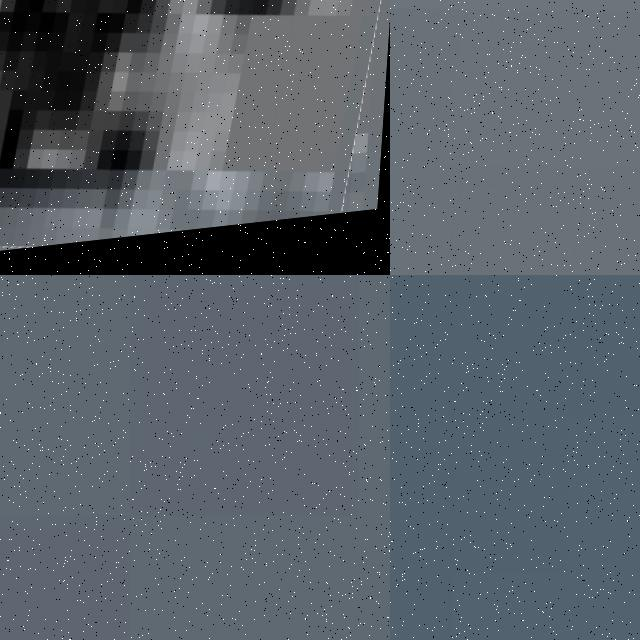drone: (0, 0, 390, 275), (390, 0, 640, 275)
